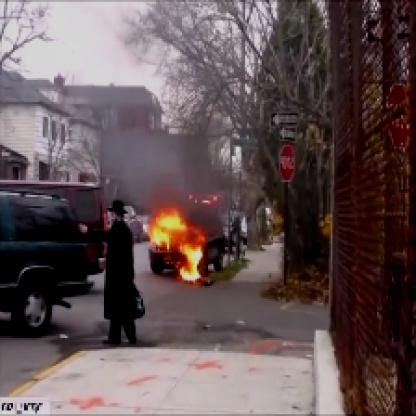Fire: (143, 191, 212, 290)
